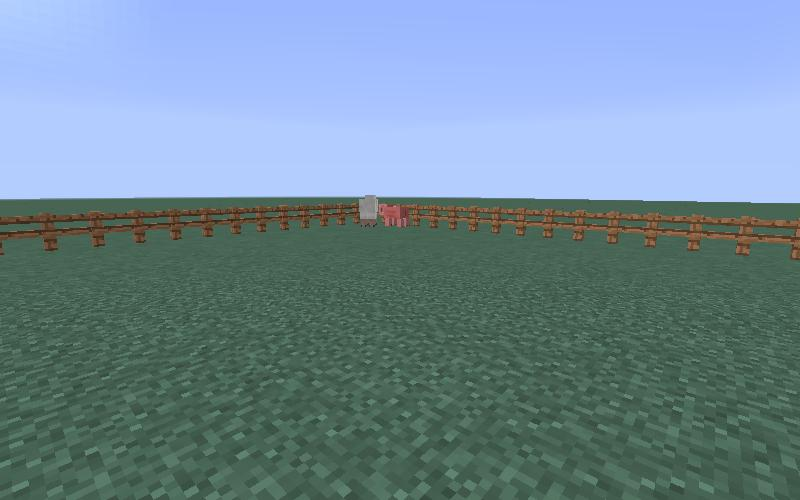pig: (379, 202, 412, 230)
sheep: (357, 193, 378, 227)
